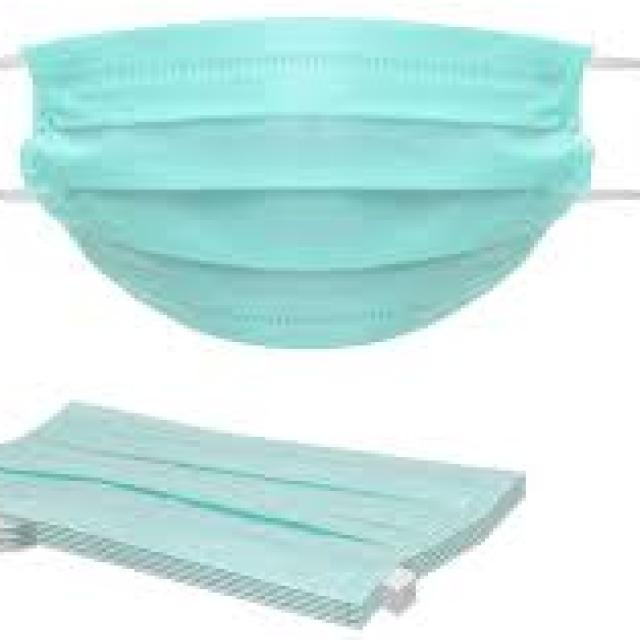organic: (22, 8, 597, 607)
